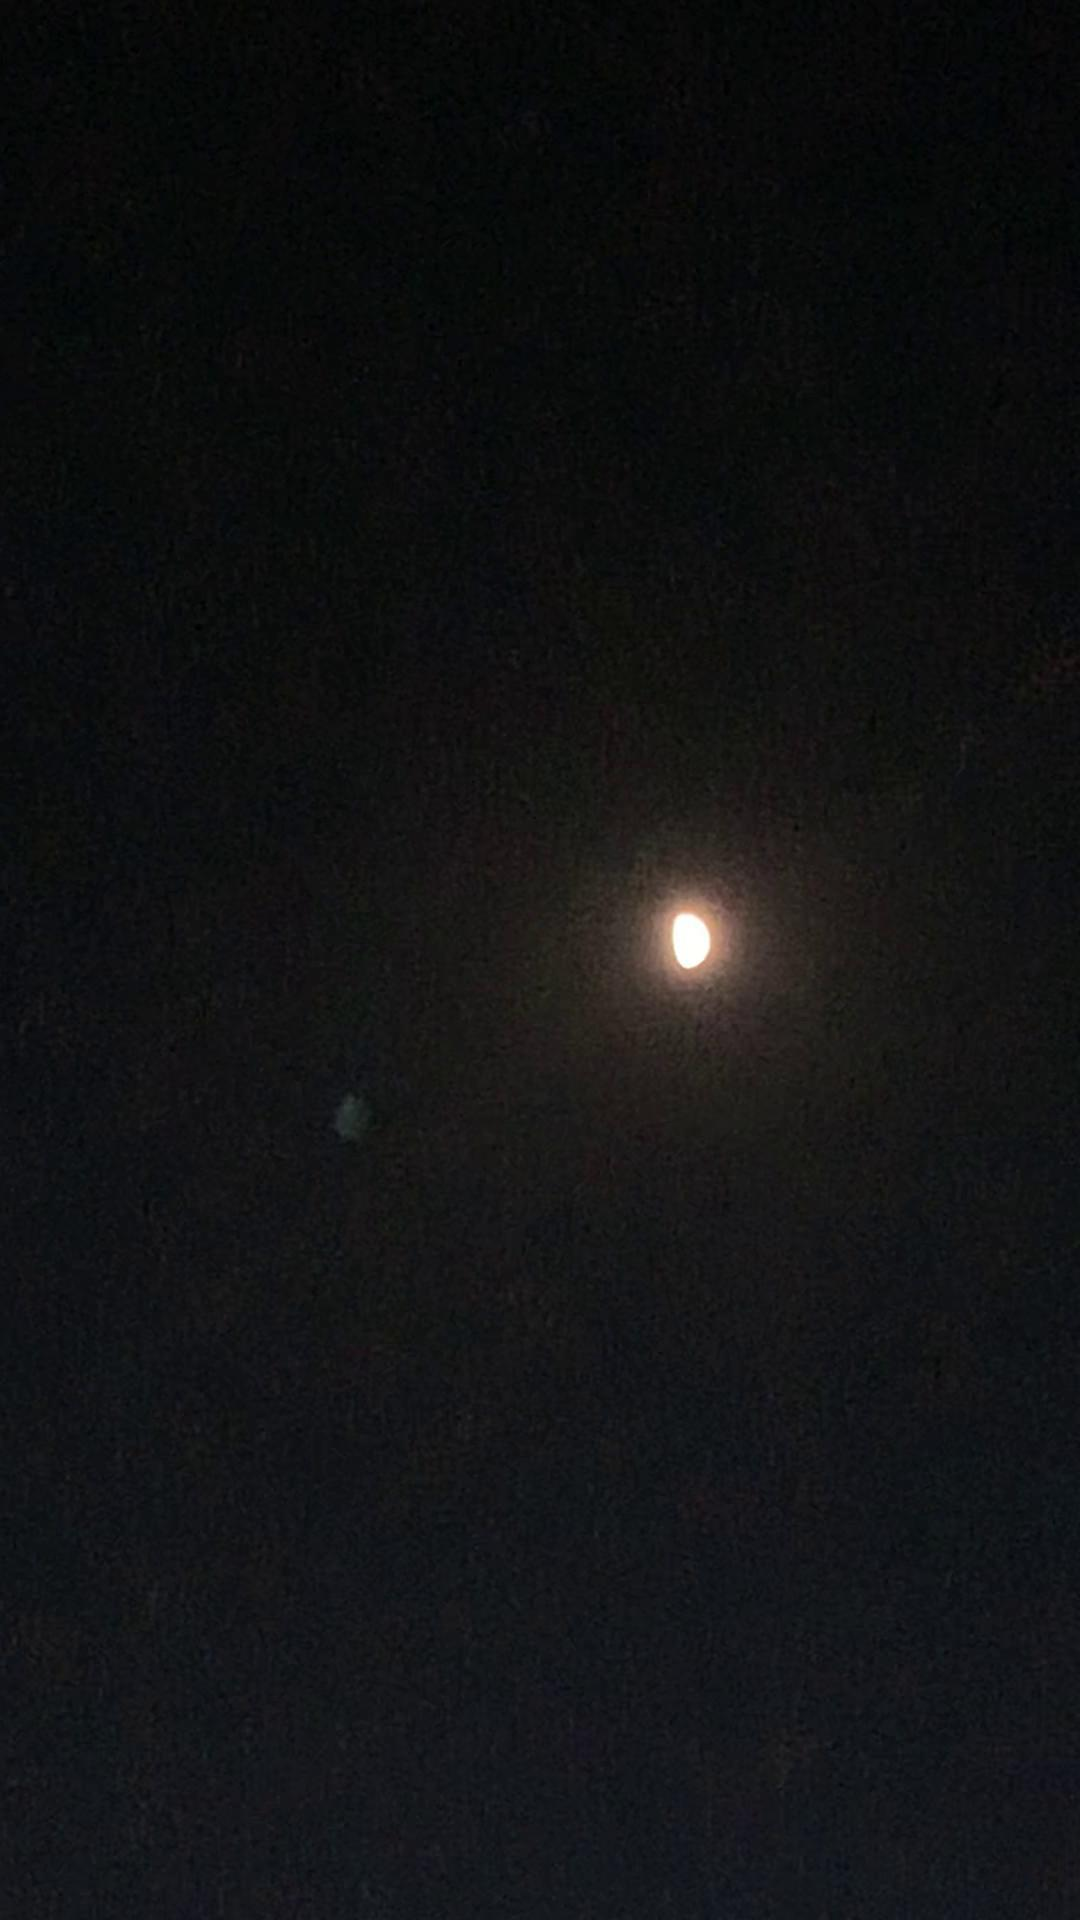moon: (642, 889, 735, 986)
